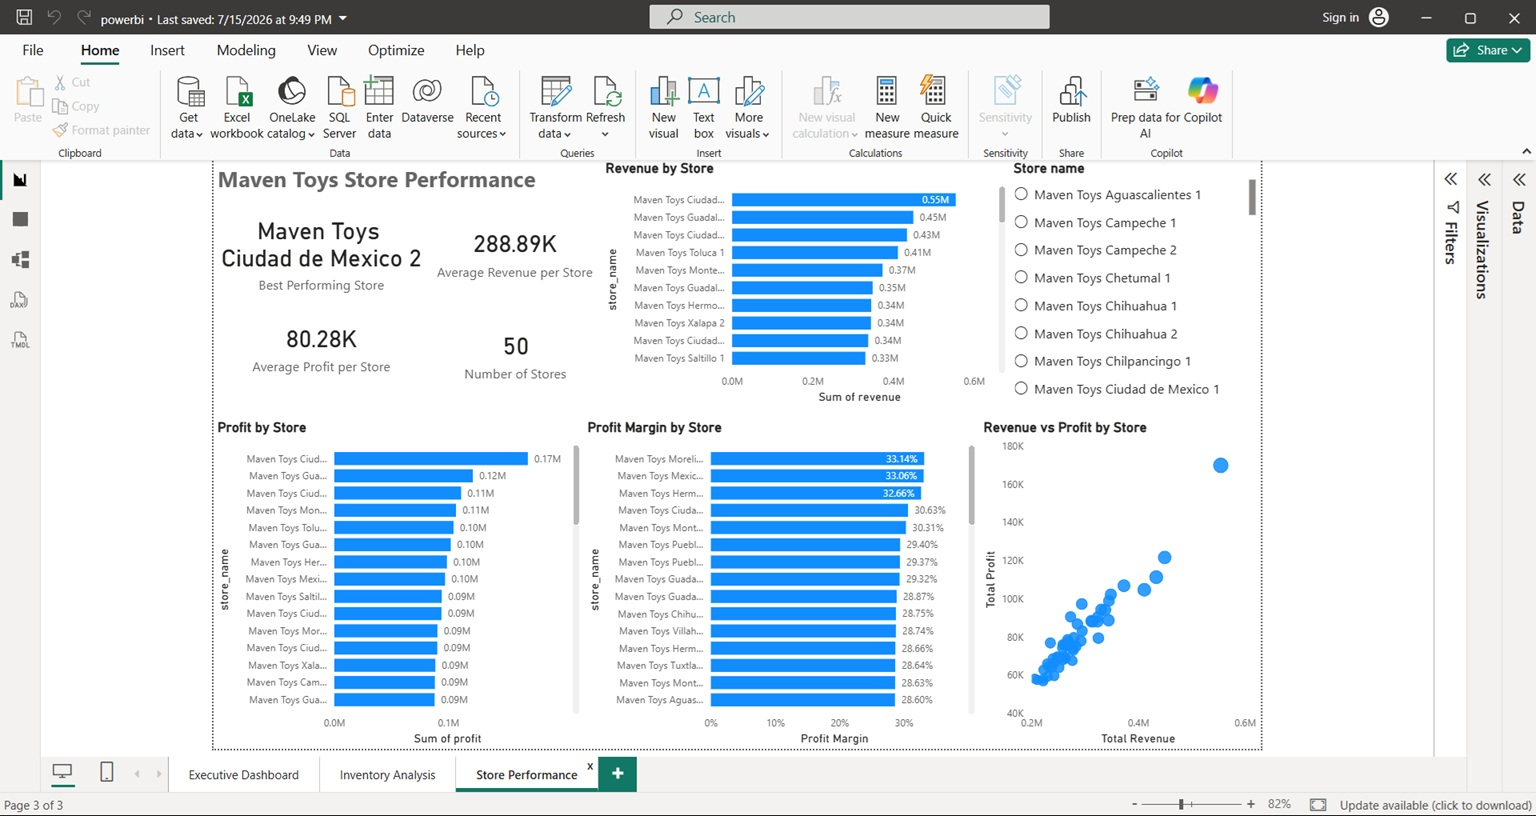

This screenshot's page, from the dashboard's own definition file:
{"tool":"powerbi","page":{"name":"Store Performance","canvas":[1280,720],"ordinal":2},"visuals":[{"type":"card","fields":{"Values":["00_Measures.Average Revenue per Store"]},"box":[264.1,48.9,209.1,126],"z":0},{"type":"card","fields":{"Values":["00_Measures.Average Profit per Store"]},"box":[0,168.8,264.1,118.6],"z":1000},{"type":"card","fields":{"Values":["00_Measures.Best Performing Store"]},"box":[0,55,264.1,113.7],"z":2000},{"type":"card","fields":{"Values":["00_Measures.Number of Stores"]},"box":[264.1,174.9,210.3,123.5],"z":3000},{"type":"barChart","title":"Revenue by Store","fields":{"Y":["Sum(public vw_sales_analysis.revenue)"],"Category":["public vw_sales_analysis.store_name"]},"box":[474.5,0,498.9,303.3],"z":4000},{"type":"barChart","title":"Profit by Store","fields":{"Y":["Sum(public vw_sales_analysis.profit)"],"Category":["public vw_sales_analysis.store_name"]},"box":[0,316.7,452.4,403.5],"z":5000},{"type":"barChart","title":"Profit Margin by Store","fields":{"Y":["00_Measures.Profit Margin"],"Category":["public vw_sales_analysis.store_name"]},"box":[452.5,316.2,483.8,403.8],"z":6000},{"type":"scatterChart","title":"Revenue vs Profit by Store","fields":{"X":["Sum(public vw_store_kpis.total_revenue)"],"Y":["Sum(public vw_store_kpis.total_profit)"],"Category":["public vw_store_kpis.store_name"],"Size":["Sum(public vw_store_kpis.total_units_sold)"]},"box":[936.2,316.2,343.8,403.8],"z":7000},{"type":"listSlicer","title":"Store name","fields":{"Values":["public vw_sales_analysis.store_name"]},"box":[973.8,0,306.2,303.8],"z":8000},{"type":"textbox","box":[0,0,452.4,45.2],"z":9000}]}

Visuals, with their boxes on the page's 1280x720 design canvas (x1, y1, x2, y2). These are canvas units, not pixel positions in the 1536x816 screenshot, which may show the page scaled, cropped or inside an application window:
card - 00_Measures.Average Revenue per Store: <region>264, 49, 473, 175</region>
card - 00_Measures.Average Profit per Store: <region>0, 169, 264, 287</region>
card - 00_Measures.Best Performing Store: <region>0, 55, 264, 169</region>
card - 00_Measures.Number of Stores: <region>264, 175, 474, 298</region>
"Revenue by Store" barChart: <region>474, 0, 973, 303</region>
"Profit by Store" barChart: <region>0, 317, 452, 720</region>
"Profit Margin by Store" barChart: <region>452, 316, 936, 720</region>
"Revenue vs Profit by Store" scatterChart: <region>936, 316, 1280, 720</region>
"Store name" listSlicer: <region>974, 0, 1280, 304</region>
textbox: <region>0, 0, 452, 45</region>
